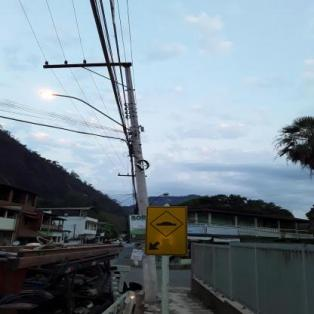Poste: (122, 59, 161, 302)
